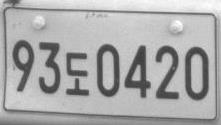0: (183, 46, 210, 101), (96, 43, 120, 97)
3: (37, 40, 61, 94)
4: (123, 44, 151, 98), (154, 44, 180, 99)
9: (11, 38, 35, 93)
도: (65, 51, 90, 96)
